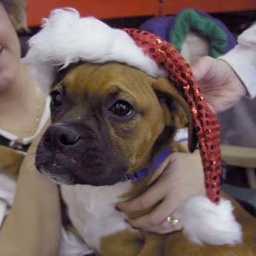dog: (28, 49, 256, 256)
